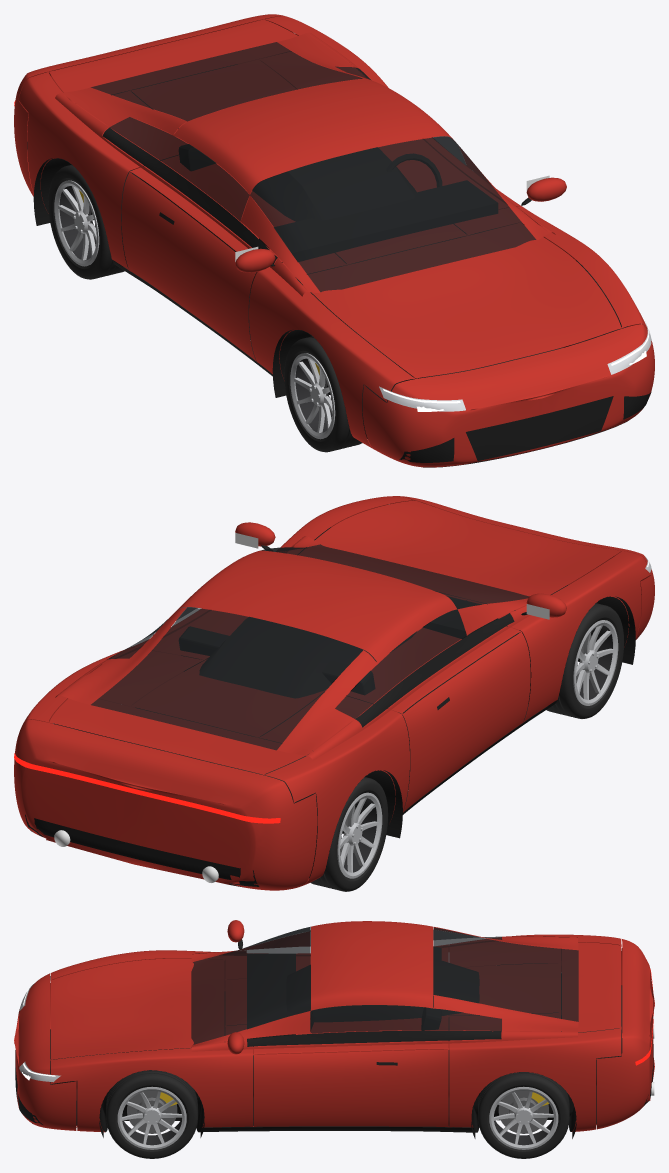
Rendered from car_gt.glb.
The picture shows the model from 3 angles, top to bottom: view 1: azimuth 30°, elevation 25°; view 2: azimuth 150°, elevation 25°; view 3: azimuth 270°, elevation 25°; orthographic projection. The views are drawn at different scales.
Parts seen in each view (by area): view 1: glass, hood, bumper_front, roof, door_R, quarter_R, fender_R, trunk, interior_shell, dashboard, pillars, wheel_FR (+16 smaller); view 2: glass, bumper_rear, hood, roof, door_R, quarter_R, interior_shell, trunk, fender_R, pillars, deck, wheel_FR (+17 smaller); view 3: glass, hood, door_L, roof, quarter_L, fender_L, bumper_rear, wheel_FL, wheel_RL, bumper_front, pillars, trunk (+12 smaller).
Part boxes in pixels (left/top/right/bottom): glass: left=91, top=42, right=536, bottom=292; hood: left=295, top=223, right=621, bottom=378; bumper_front: left=362, top=323, right=654, bottom=467; roof: left=173, top=79, right=453, bottom=194; door_R: left=121, top=171, right=256, bottom=361; quarter_R: left=18, top=72, right=188, bottom=270; fender_R: left=249, top=253, right=414, bottom=449; trunk: left=49, top=19, right=297, bottom=103; interior_shell: left=111, top=65, right=563, bottom=382; dashboard: left=259, top=180, right=497, bottom=277; pillars: left=61, top=33, right=549, bottom=293; wheel_FR: left=284, top=336, right=362, bottom=452; glass: left=91, top=544, right=529, bottom=750; bumper_rear: left=14, top=719, right=317, bottom=890; hood: left=298, top=500, right=621, bottom=610; roof: left=175, top=550, right=456, bottom=663; door_R: left=402, top=631, right=530, bottom=812; quarter_R: left=259, top=693, right=409, bottom=885; interior_shell: left=105, top=591, right=519, bottom=790; trunk: left=49, top=698, right=312, bottom=774; fender_R: left=467, top=551, right=650, bottom=722; pillars: left=61, top=537, right=527, bottom=755; deck: left=131, top=659, right=326, bottom=737; wheel_FR: left=546, top=603, right=624, bottom=718; glass: left=191, top=926, right=578, bottom=1044; hood: left=50, top=958, right=224, bottom=1059; door_L: left=253, top=1049, right=448, bottom=1127; roof: left=310, top=921, right=433, bottom=1010; quarter_L: left=449, top=1013, right=621, bottom=1131; fender_L: left=50, top=1024, right=253, bottom=1132; bumper_rear: left=596, top=939, right=654, bottom=1129; wheel_FL: left=106, top=1070, right=197, bottom=1158; wheel_RL: left=478, top=1072, right=569, bottom=1158; bumper_front: left=14, top=973, right=76, bottom=1130; pillars: left=191, top=927, right=578, bottom=1046; trunk: left=562, top=942, right=621, bottom=1032.
Size of the model in its own units: 2.14 by 1.21 by 4.57.
